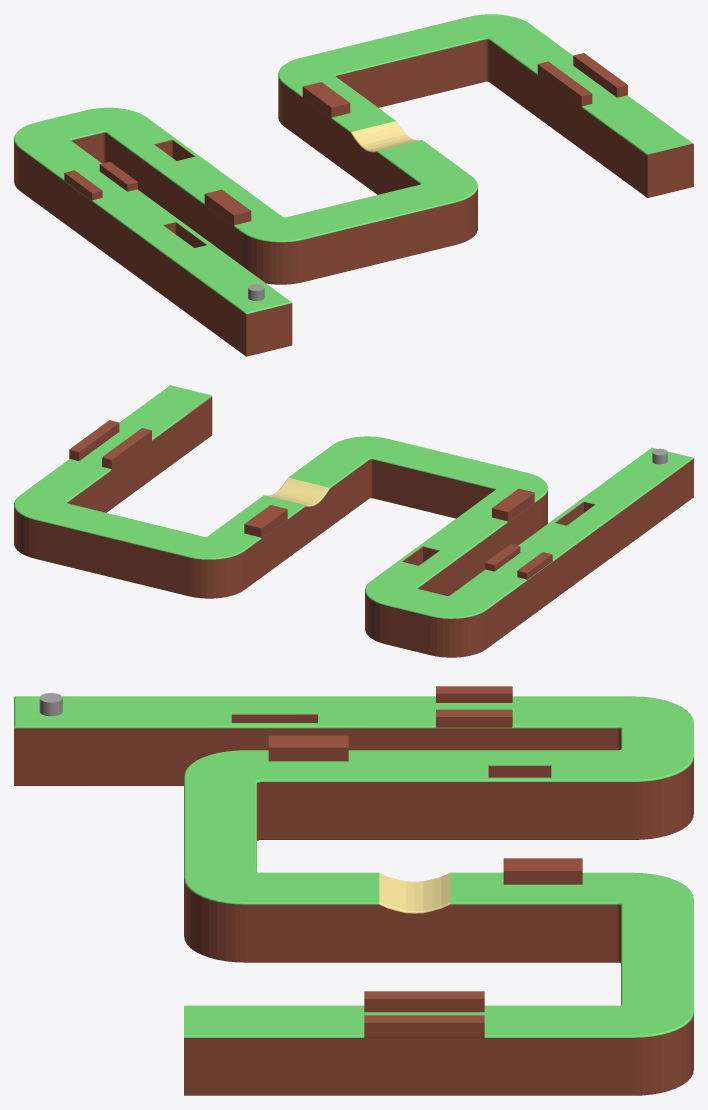
File: Level3.fbx
3 renders of one model, top to bottom at view 1: azimuth 30°, elevation 25°; view 2: azimuth 150°, elevation 25°; view 3: azimuth 270°, elevation 25°, orthographic. The views are drawn at different scales.
Visible parts, largest first — view 1: Level3, Wall2, Wall3, Wall1, Wall4, Wall5, Wall6; view 2: Level3, Wall2, Wall3, Wall1, Wall4, Wall5, Wall6; view 3: Level3, Wall1, Wall2, Wall4, Wall3, Wall6, Wall5.
Part boxes in pixels (x1,y1,x2,y2): Level3: (14,14,693,356); Wall2: (537,61,592,107); Wall3: (302,82,350,118); Wall1: (573,53,627,97); Wall4: (204,189,251,226); Wall5: (64,170,102,200); Wall6: (99,161,137,191); Level3: (14,385,693,657); Wall2: (102,428,151,469); Wall3: (244,505,287,538); Wall1: (69,420,119,460); Wall4: (492,488,534,521); Wall5: (517,552,552,579); Wall6: (485,544,520,571); Level3: (14,696,693,1095); Wall1: (364,1015,484,1037); Wall2: (364,991,484,1012); Wall4: (268,735,348,761); Wall3: (503,858,582,884); Wall6: (436,709,512,727); Wall5: (436,686,512,702).
Bounding box in the file's own units: 43.19 × 4.37 × 36.45.
